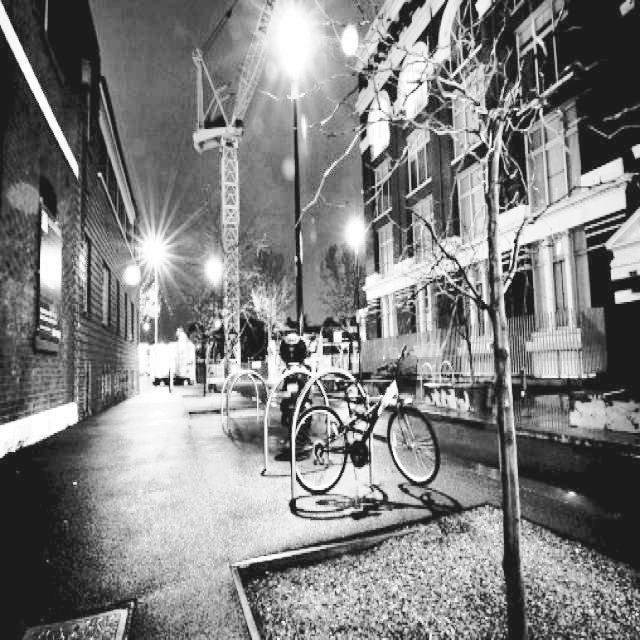Bicycle: (292, 369, 447, 508), (251, 331, 392, 464)
Tree: (430, 0, 556, 615)
